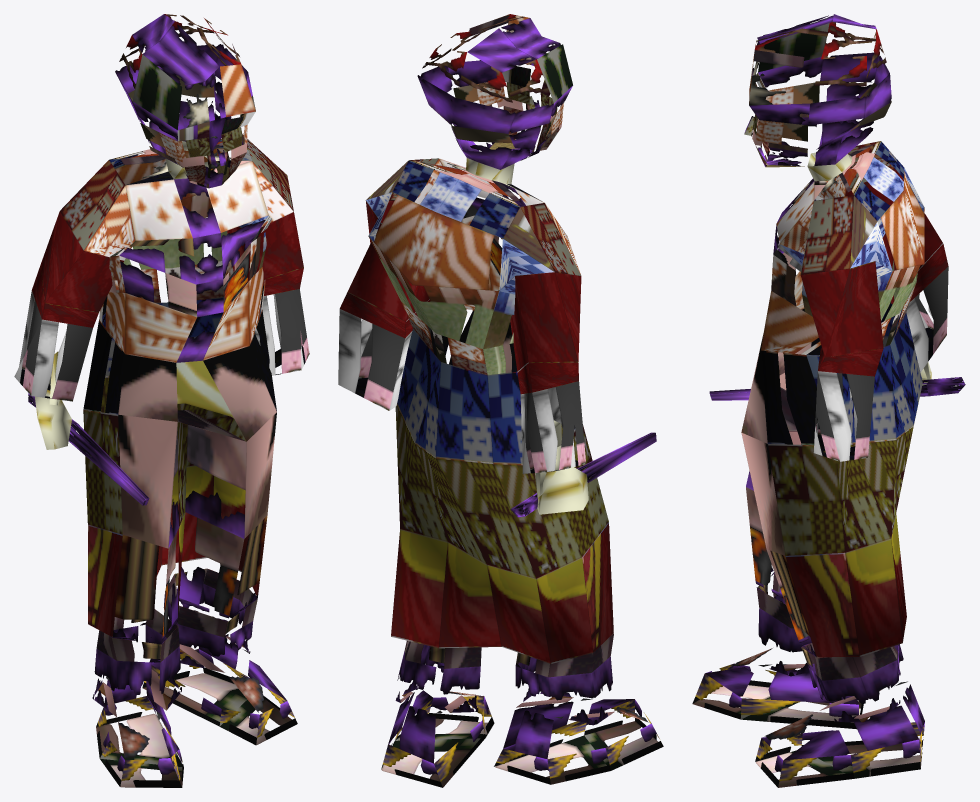
The picture shows the model from 3 angles, left to right: view 1: azimuth 30°, elevation 25°; view 2: azimuth 150°, elevation 25°; view 3: azimuth 270°, elevation 25°; orthographic projection. The views are drawn at different scales.
Parts seen in each view (by area): view 1: T1L9M006_2; view 2: T1L9M006_2; view 3: T1L9M006_2.
Boxes of the visible parts, box(x1,y1,x2,y2) form: T1L9M006_2: box(14, 14, 309, 787); T1L9M006_2: box(338, 14, 663, 787); T1L9M006_2: box(692, 14, 965, 787).
Size of the model in its own units: 0.5766 by 1.54 by 0.5252.
